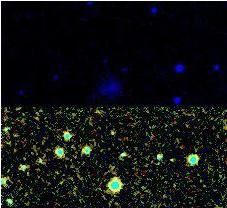star: (12, 157, 42, 187)
